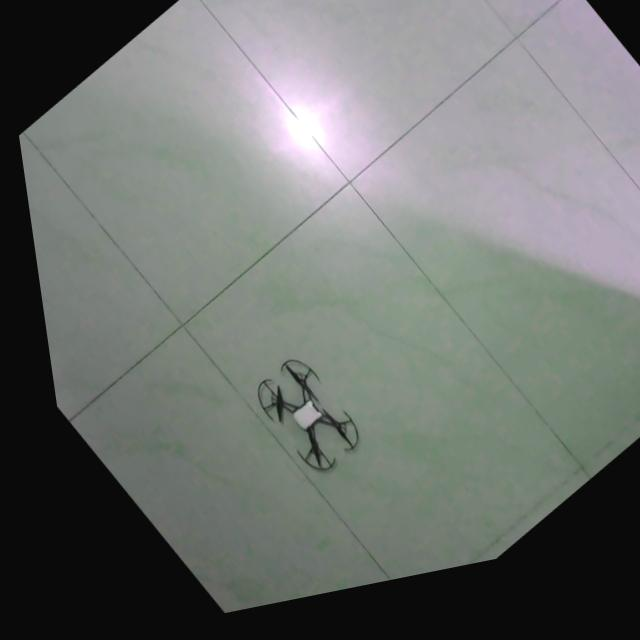drone: (244, 368, 345, 484)
